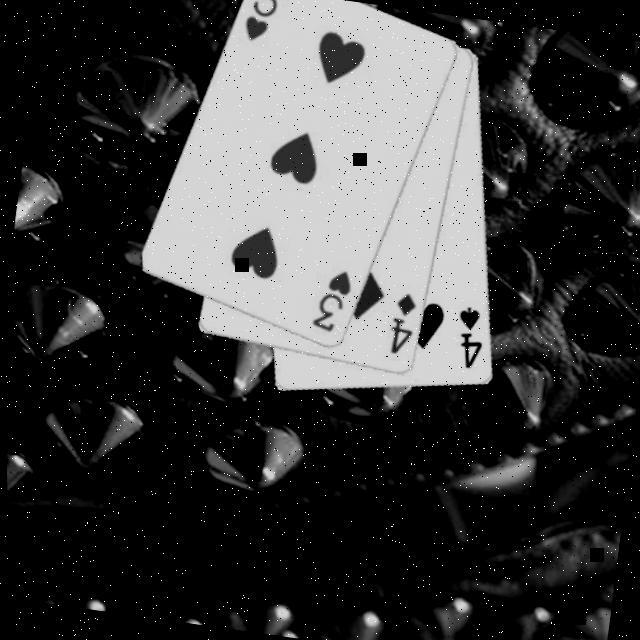3H: (308, 264, 358, 337), (239, 0, 289, 48)
4D: (384, 289, 422, 360)
4S: (449, 302, 493, 374)
